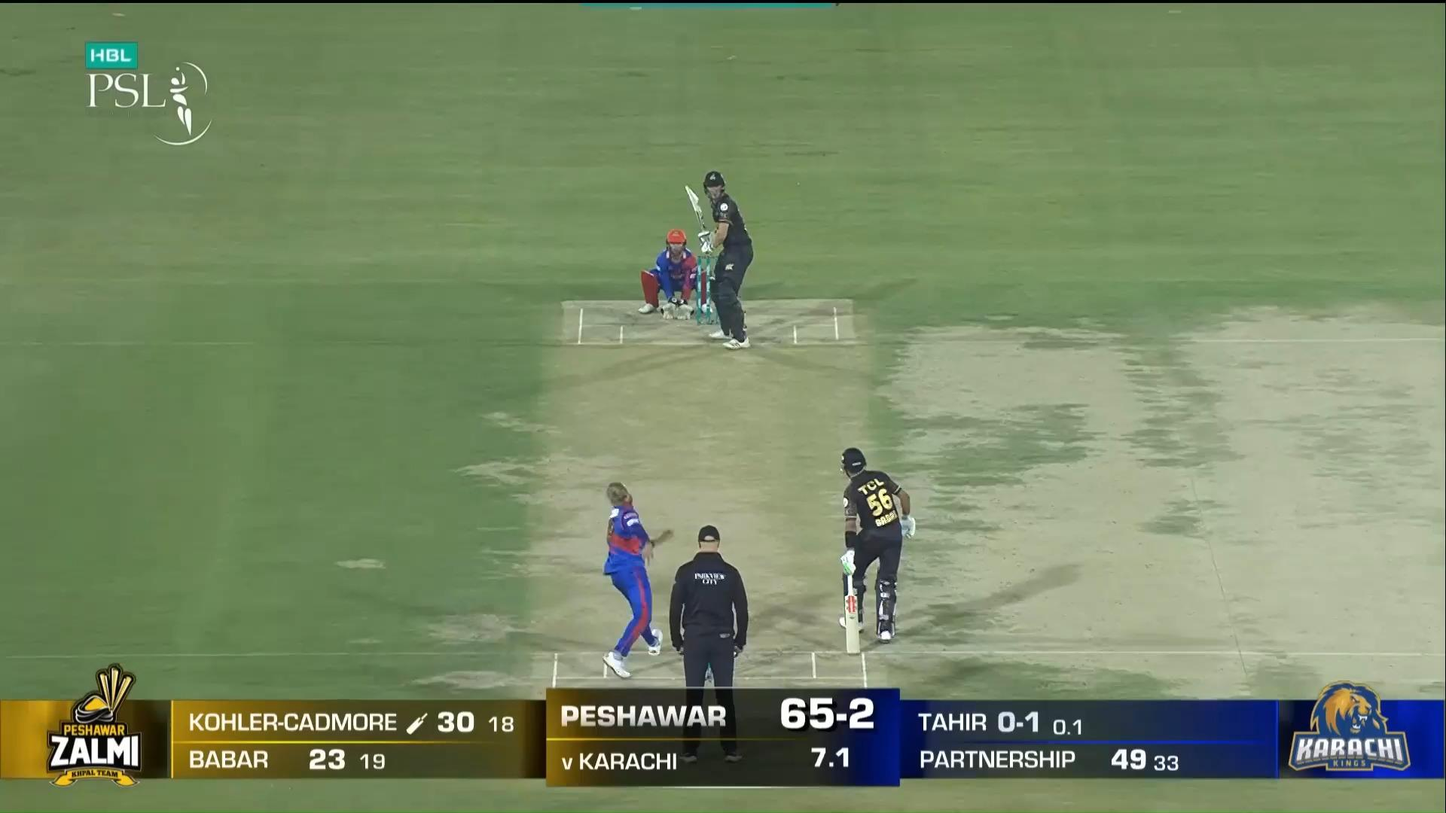batsman: (686, 170, 754, 350)
